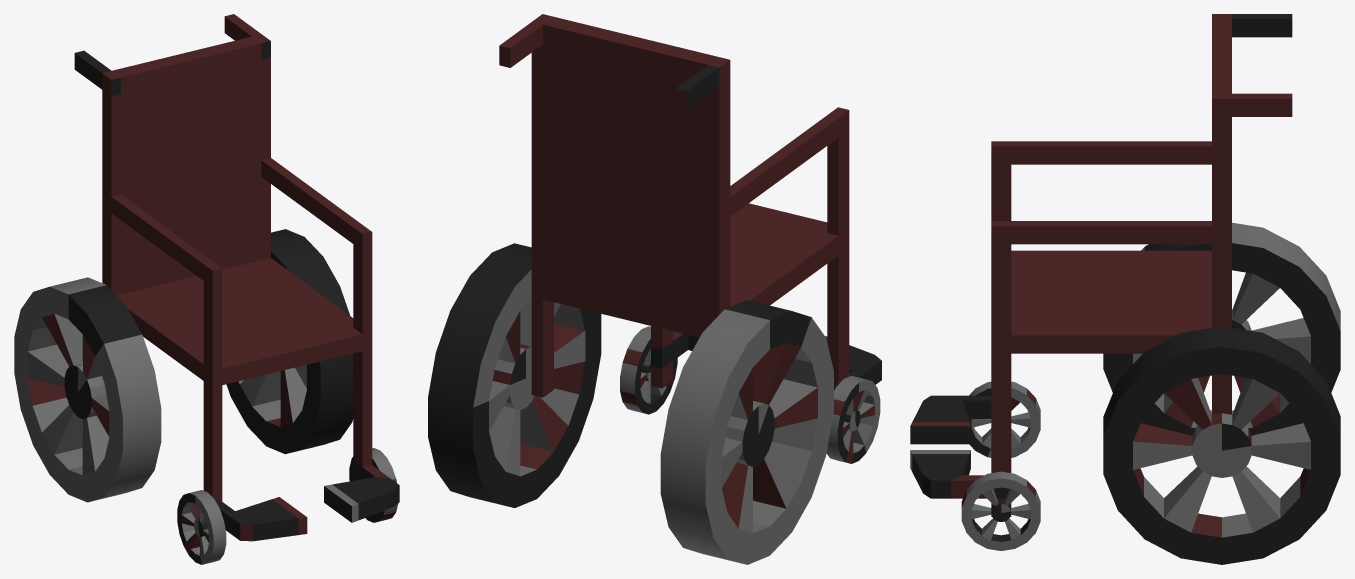
Rendered from wozek.FBX.
The picture shows the model from 3 angles, left to right: view 1: azimuth 30°, elevation 25°; view 2: azimuth 150°, elevation 25°; view 3: azimuth 270°, elevation 25°; orthographic projection. The views are drawn at different scales.
Parts seen in each view (by area): view 1: Box001; view 2: Box001; view 3: Box001.
Boxes of the visible parts, x1,y1,x2,y2 form: Box001: (14, 14, 399, 564); Box001: (428, 14, 881, 564); Box001: (910, 14, 1340, 564).
Size of the model in its own units: 45.77 by 75.77 by 66.32.
